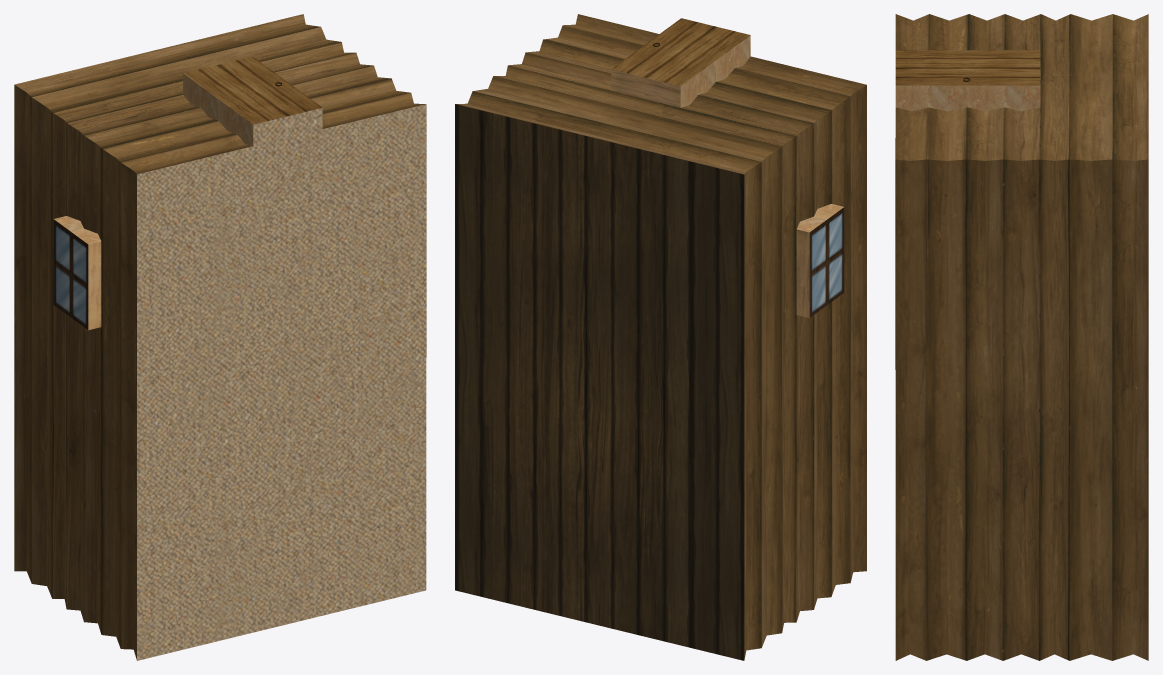
File: Interior_Log_House_B.fbx
3 views of the same model, side by side, from view 1: azimuth 30°, elevation 25°; view 2: azimuth 150°, elevation 25°; view 3: azimuth 270°, elevation 25° (orthographic). The views are drawn at different scales.
Parts seen in each view (by area): view 1: Interior_Log_House_B; view 2: Interior_Log_House_B; view 3: Interior_Log_House_B.
Boxes of the visible parts, x1,y1,x2,y2 form: Interior_Log_House_B: [14, 14, 426, 660]; Interior_Log_House_B: [455, 14, 866, 660]; Interior_Log_House_B: [895, 14, 1148, 660].
Size of the model in its own units: 47.01 by 77.62 by 33.11.
